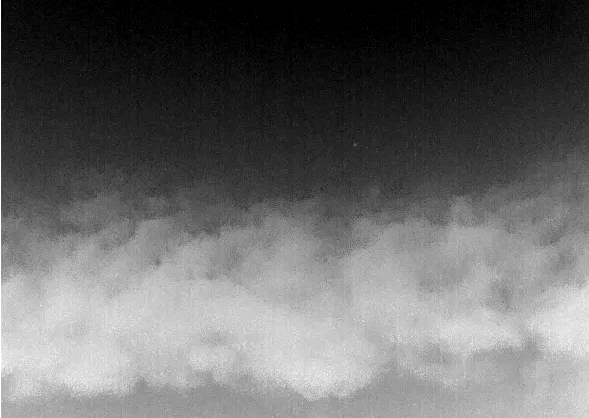dim target: (352, 142, 359, 147)
